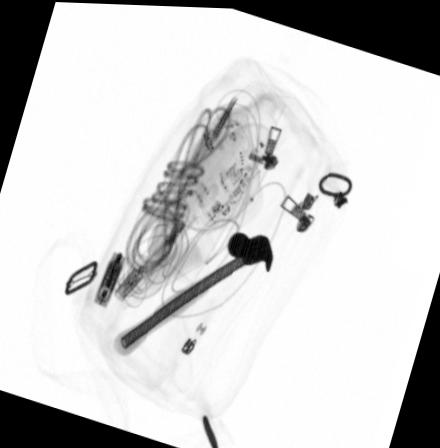Hammer: (112, 228, 275, 354)
